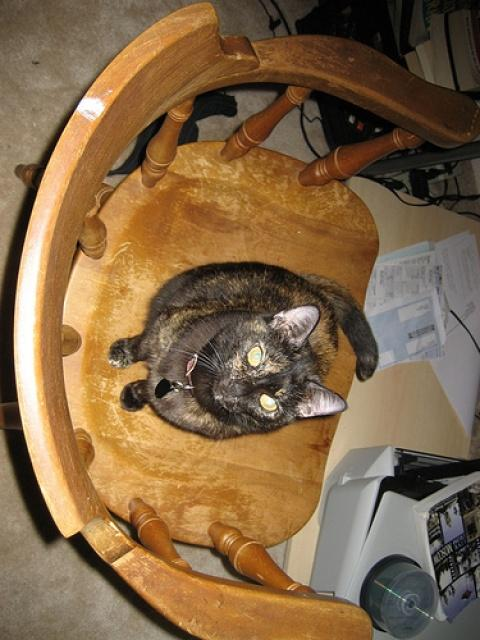Kursi: (11, 1, 479, 639)
